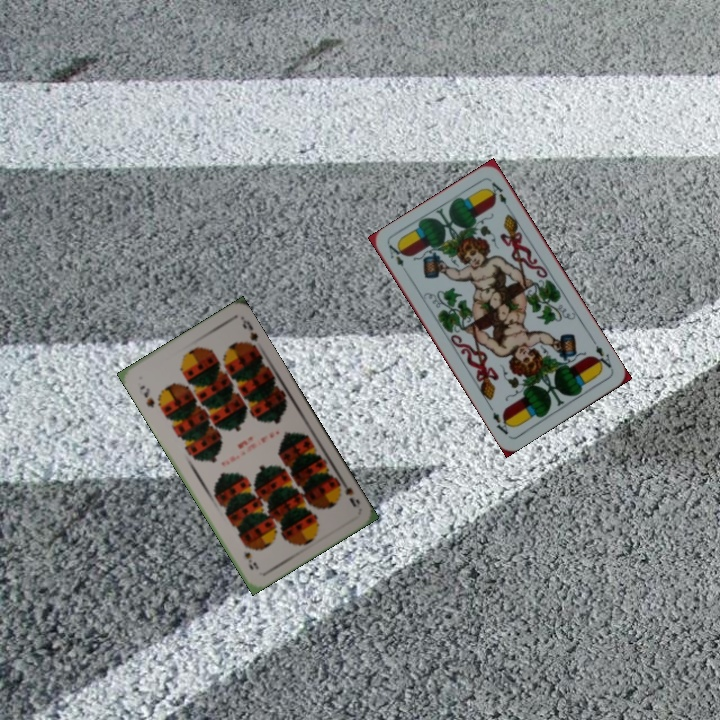EA: (589, 341, 615, 372), (384, 241, 406, 269)
S9: (332, 474, 363, 509), (136, 381, 157, 410)
